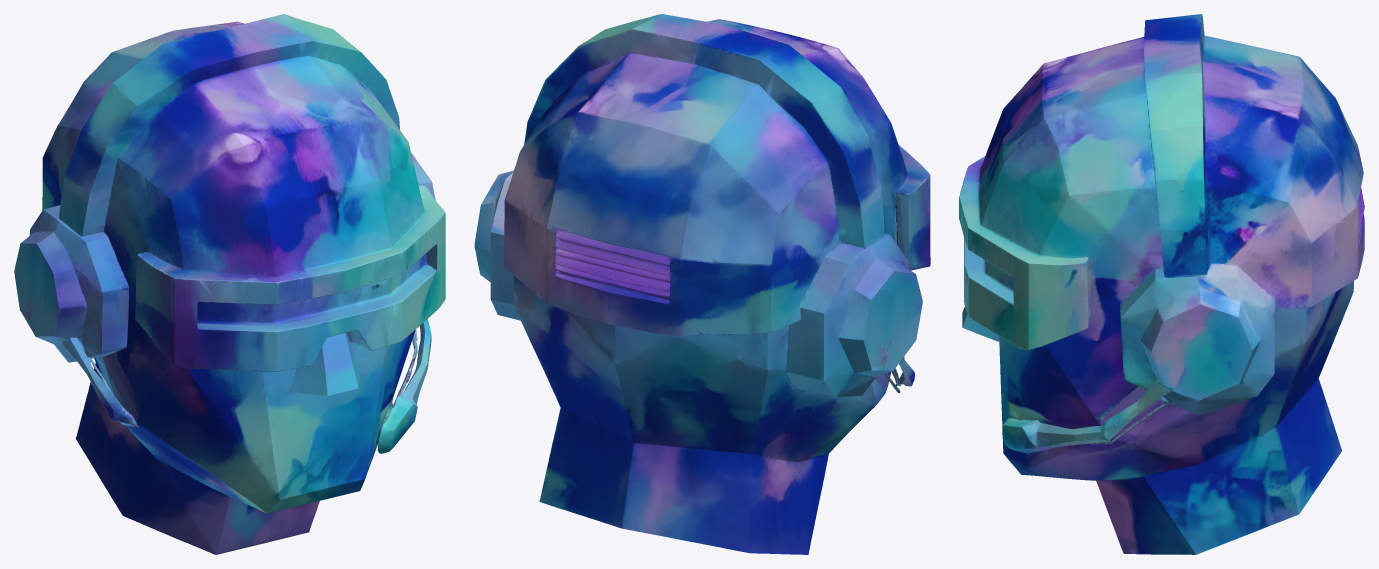
The model's file is base_basic_pbr_optimized.glb.
3 views of the same model, side by side, from view 1: azimuth 30°, elevation 25°; view 2: azimuth 150°, elevation 25°; view 3: azimuth 270°, elevation 25° (orthographic). The views are drawn at different scales.
Parts seen in each view (by area): view 1: model; view 2: model; view 3: model.
Part boxes in pixels (box(x1,y1,x2,y2)): model: box(14, 14, 445, 554); model: box(474, 14, 930, 554); model: box(959, 14, 1364, 554).
Size of the model in its own units: 1.55 by 1.9 by 1.43.
1 material, 1 textured.
